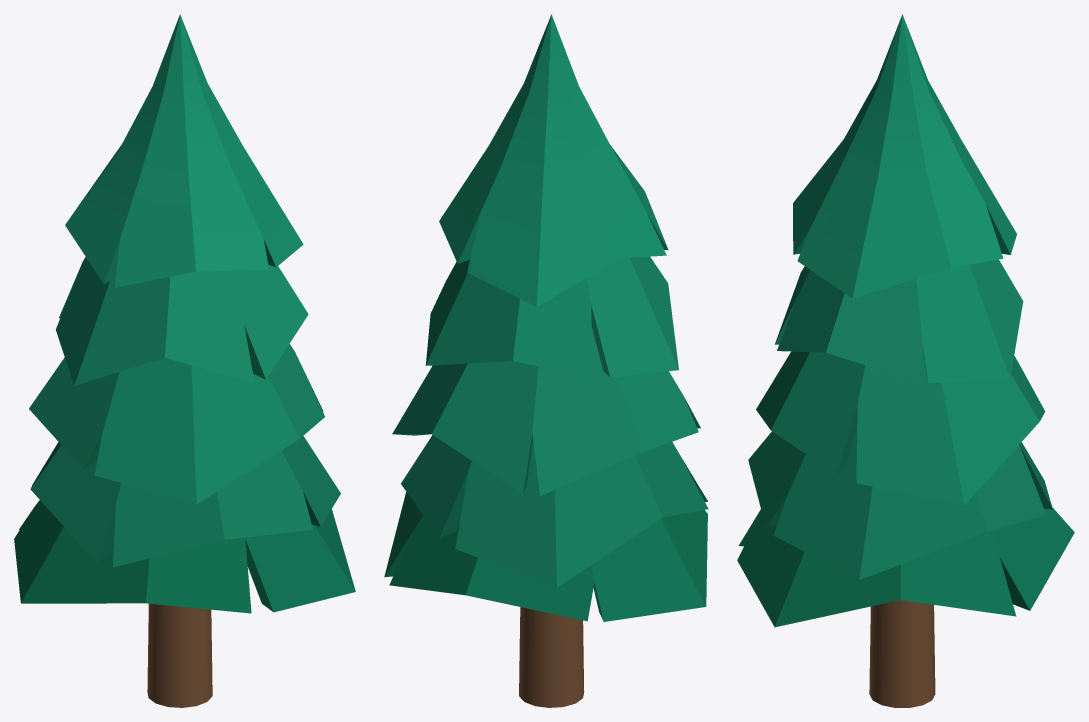
File: Spruce_Turquoise_3.fbx
The picture shows the model from 3 angles, left to right: view 1: azimuth 30°, elevation 25°; view 2: azimuth 150°, elevation 25°; view 3: azimuth 270°, elevation 25°; orthographic projection.
Visible parts, largest first — view 1: Cylinder.1057, Cylinder.1056, Cylinder.1055, Cylinder.1053, Cylinder.1054, Cylinder.1052; view 2: Cylinder.1057, Cylinder.1056, Cylinder.1054, Cylinder.1055, Cylinder.1053, Cylinder.1052; view 3: Cylinder.1057, Cylinder.1056, Cylinder.1054, Cylinder.1055, Cylinder.1053, Cylinder.1052.
Part boxes in pixels (x1,y1,x2,y2): Cylinder.1057: (65, 14, 303, 287); Cylinder.1056: (29, 344, 324, 504); Cylinder.1055: (56, 257, 308, 385); Cylinder.1053: (14, 500, 355, 613); Cylinder.1054: (30, 436, 340, 567); Cylinder.1052: (147, 603, 212, 707); Cylinder.1057: (439, 14, 668, 306); Cylinder.1056: (392, 327, 700, 495); Cylinder.1054: (401, 435, 708, 587); Cylinder.1055: (425, 256, 678, 377); Cylinder.1053: (384, 492, 707, 621); Cylinder.1052: (519, 607, 584, 707); Cylinder.1057: (793, 14, 1016, 298); Cylinder.1056: (756, 346, 1045, 505); Cylinder.1054: (748, 429, 1052, 579); Cylinder.1055: (775, 259, 1023, 383); Cylinder.1053: (737, 507, 1074, 627); Cylinder.1052: (869, 600, 935, 707).
Bounding box in the file's own units: 265 × 567 × 255.
